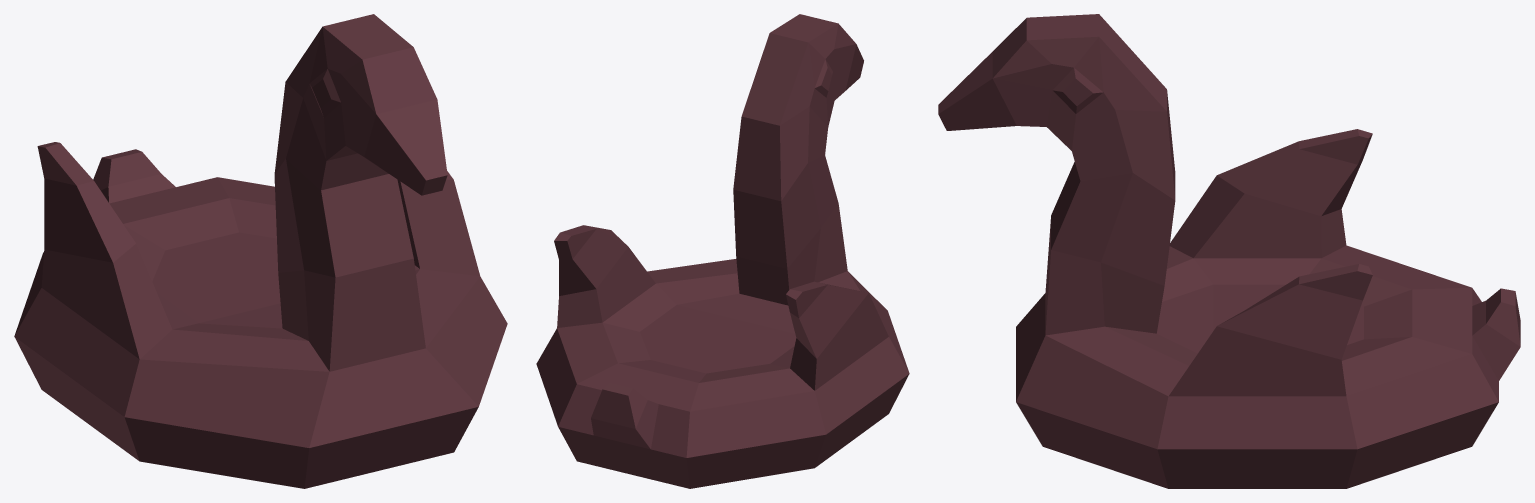
The model's file is inflatable-swan-big.fbx.
3 views of the same model, side by side, from view 1: azimuth 30°, elevation 25°; view 2: azimuth 150°, elevation 25°; view 3: azimuth 270°, elevation 25° (orthographic). The views are drawn at different scales.
Visible parts, largest first — view 1: inflatable-swan-big; view 2: inflatable-swan-big; view 3: inflatable-swan-big.
Part boxes in pixels (x1,y1,x2,y2): inflatable-swan-big: [14, 14, 507, 488]; inflatable-swan-big: [536, 14, 909, 488]; inflatable-swan-big: [938, 14, 1520, 488].
Size of the model in its own units: 1.66 by 1.83 by 2.4.
